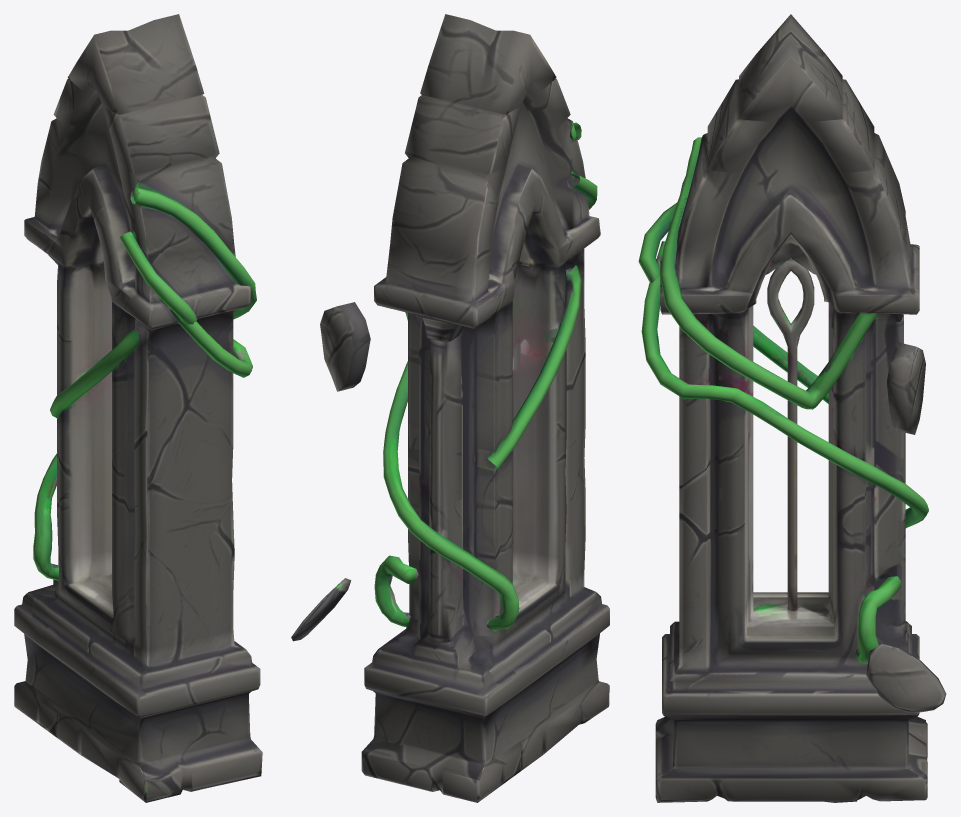
Rendered from eventProp.fbx.
3 views of the same model, side by side, from view 1: azimuth 30°, elevation 25°; view 2: azimuth 150°, elevation 25°; view 3: azimuth 270°, elevation 25° (orthographic). The views are drawn at different scales.
Visible parts, largest first — view 1: tripo_node_0b5b4f6e; view 2: tripo_node_0b5b4f6e; view 3: tripo_node_0b5b4f6e.
Boxes of the visible parts, left/top/right/bottom form: tripo_node_0b5b4f6e: left=14, top=14, right=262, bottom=802; tripo_node_0b5b4f6e: left=291, top=14, right=609, bottom=802; tripo_node_0b5b4f6e: left=638, top=14, right=946, bottom=802.
Size of the model in its own units: 0.2121 by 0.7591 by 0.2867.
1 material, 1 textured.
